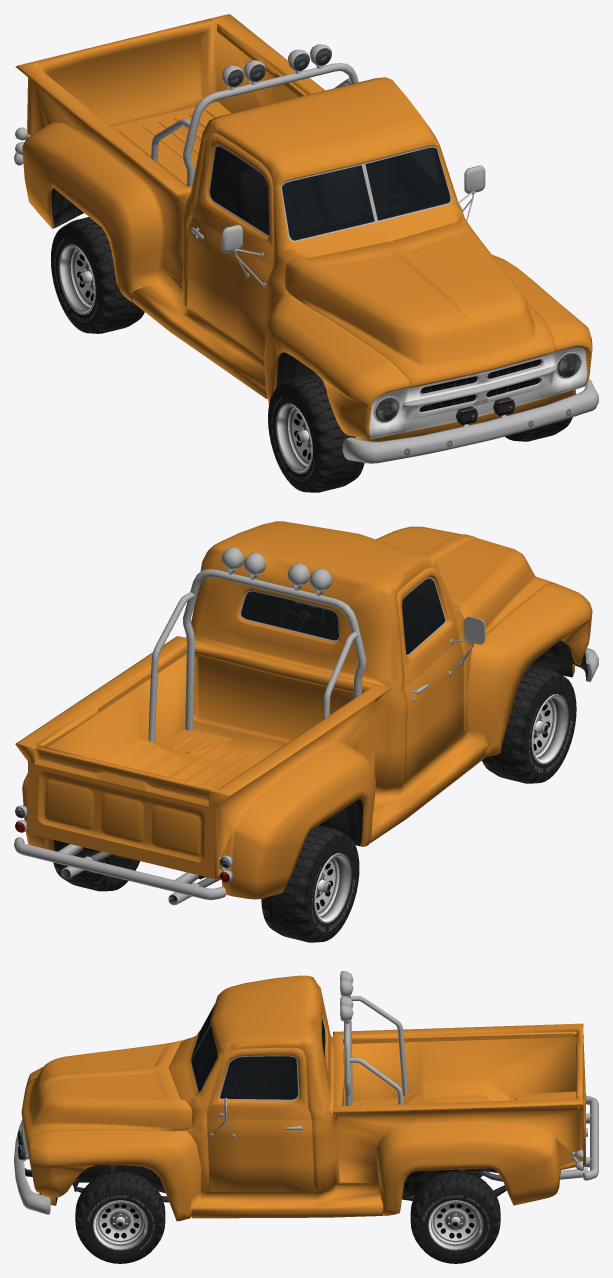
The model's file is veicolo_epoca_fuoristrada.glb.
3 views of the same model, one above another, from view 1: azimuth 30°, elevation 25°; view 2: azimuth 150°, elevation 25°; view 3: azimuth 270°, elevation 25° (orthographic). The views are drawn at different scales.
Visible parts, largest first — view 1: sb_modello; view 2: sb_modello; view 3: sb_modello.
Part boxes in pixels (x1,y1,x2,y2): sb_modello: (14,14,598,492); sb_modello: (14,521,598,942); sb_modello: (14,971,598,1263).
Bounding box in the file's own units: 1.97 × 2.14 × 4.93.
Materials: 6 (5 with a texture image).
